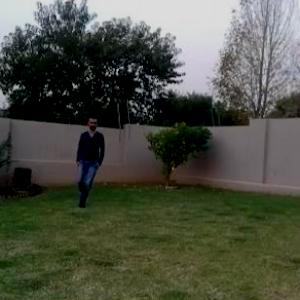follow: (73, 112, 105, 213)
